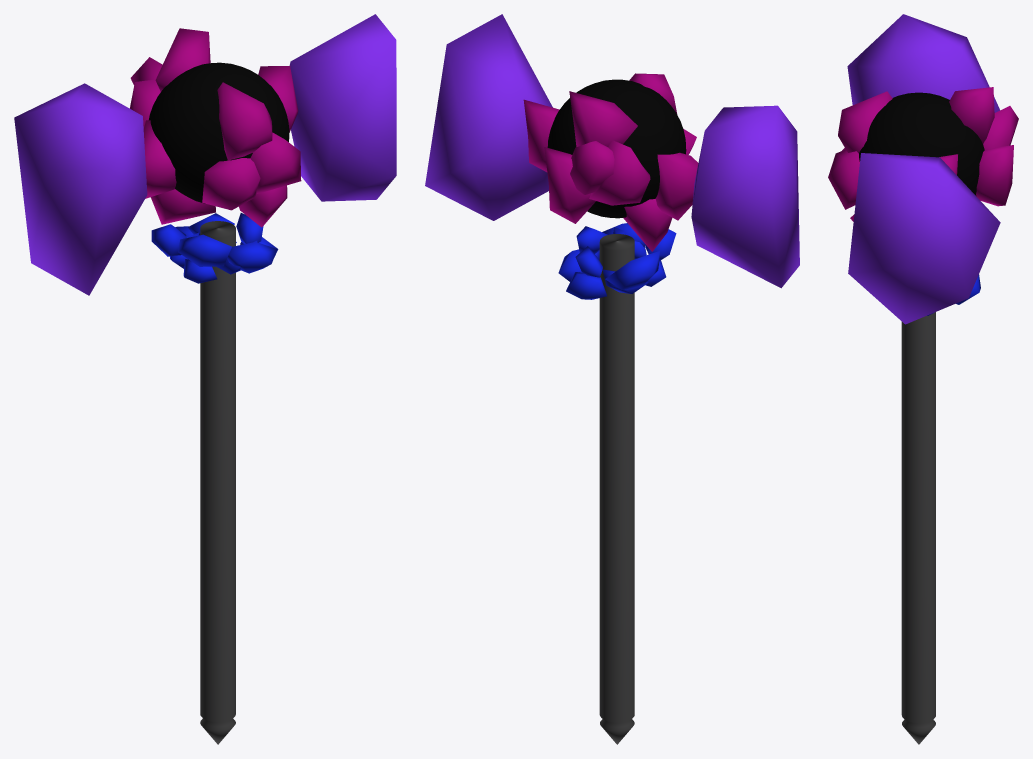
File: MazoDeOscuridad.fbx
The picture shows the model from 3 angles, left to right: view 1: azimuth 30°, elevation 25°; view 2: azimuth 150°, elevation 25°; view 3: azimuth 270°, elevation 25°; orthographic projection. The views are drawn at different scales.
Visible parts, largest first — view 1: CaraMazo2, Mango, CaraMazo1, RocaHoyo, HoyoNegro, Union2, Union; view 2: CaraMazo1, Mango, CaraMazo2, RocaHoyo, HoyoNegro, Union2, Union; view 3: CaraMazo1, Mango, CaraMazo2, RocaHoyo, HoyoNegro.
Part boxes in pixels (x1,y1,x2,y2): CaraMazo2: (14, 83, 147, 295); Mango: (200, 221, 235, 744); CaraMazo1: (289, 14, 396, 201); RocaHoyo: (130, 28, 301, 227); HoyoNegro: (149, 62, 289, 203); Union2: (151, 224, 278, 273); Union: (170, 213, 263, 283); CaraMazo1: (425, 14, 552, 220); Mango: (599, 234, 634, 744); CaraMazo2: (691, 105, 799, 288); RocaHoyo: (523, 73, 698, 251); HoyoNegro: (547, 79, 686, 218); Union2: (558, 223, 676, 299); Union: (575, 226, 666, 293); CaraMazo1: (848, 153, 1000, 324); Mango: (901, 312, 935, 744); CaraMazo2: (847, 14, 999, 112); RocaHoyo: (828, 87, 1018, 221); HoyoNegro: (859, 92, 984, 195).
Size of the model in its own units: 3854 by 7276 by 1905.
